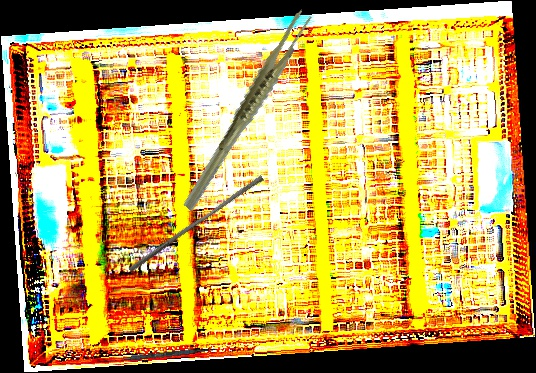Pusher: (127, 170, 265, 278)
Spatula Surgical: (103, 345, 217, 365)
Tissue Forceps: (150, 7, 343, 213)
